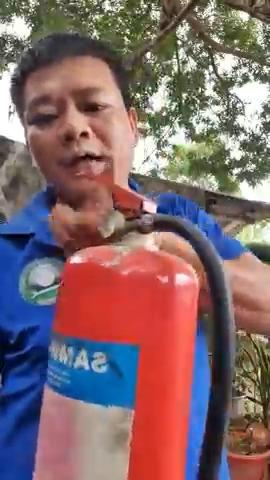FireExtinguisher: (21, 191, 231, 480)
